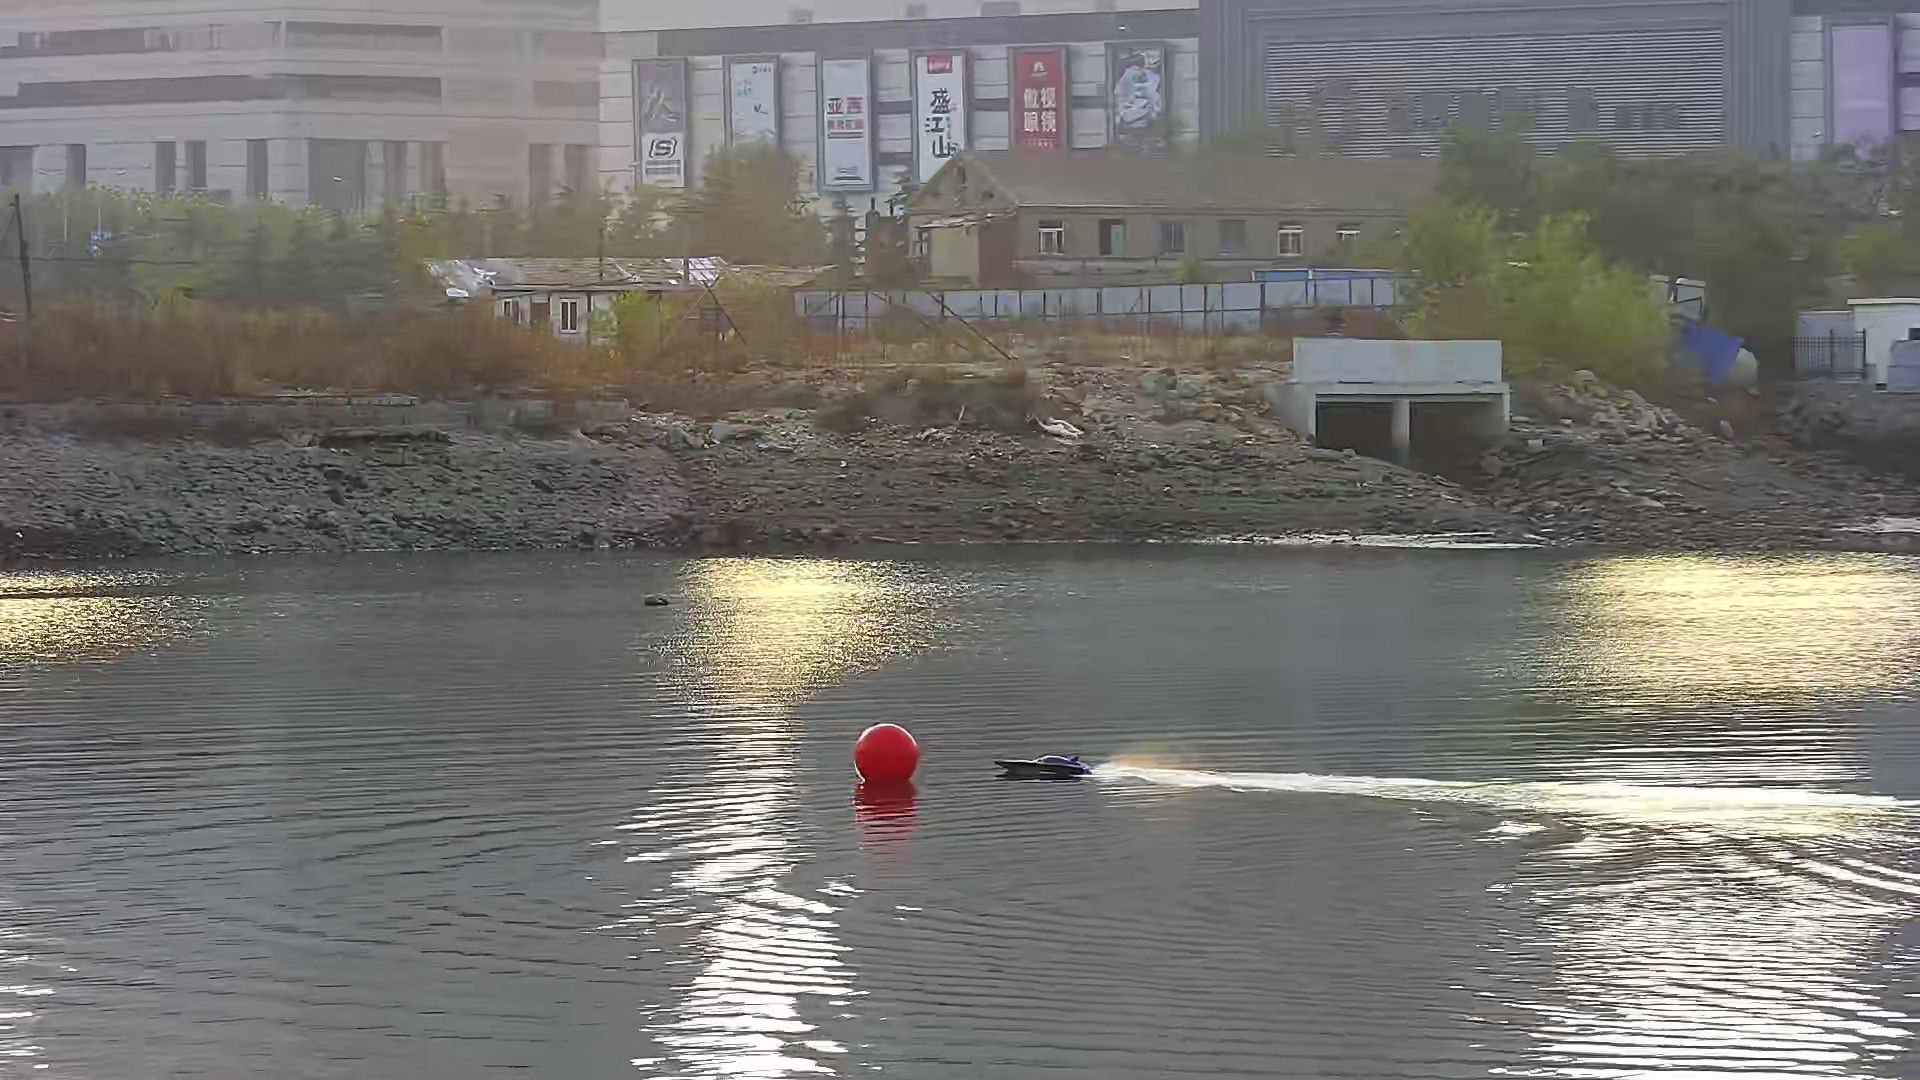ball: (849, 725, 923, 787)
boat: (996, 746, 1098, 785)
rubbish: (645, 591, 678, 607)
